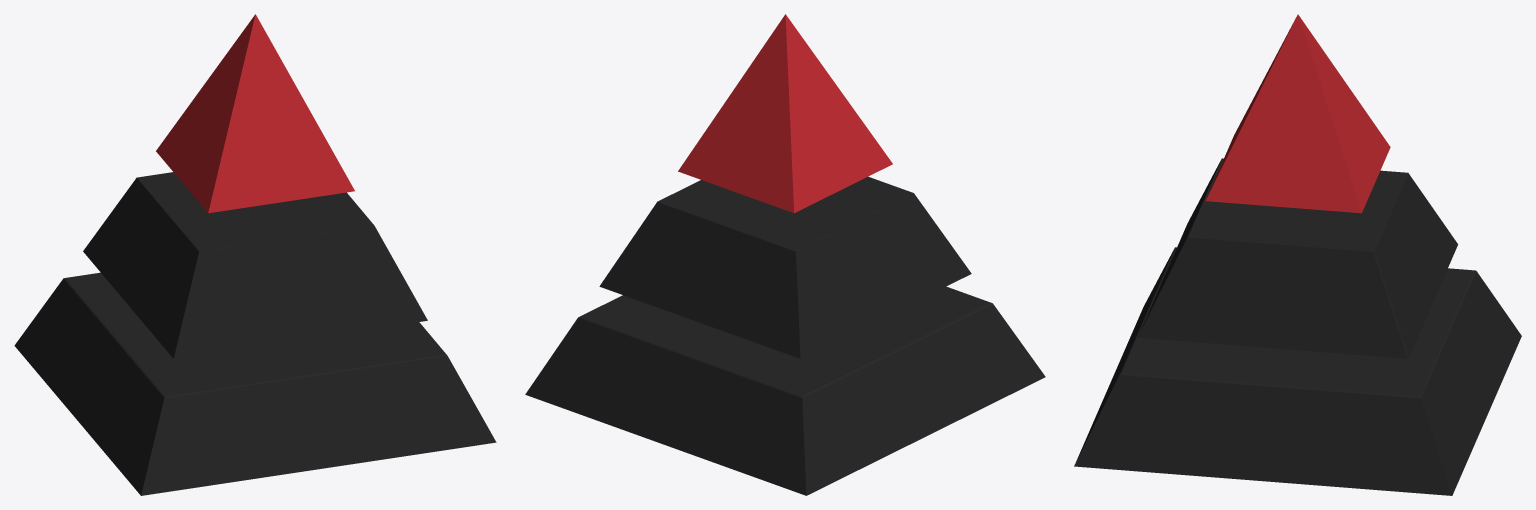
Rendered from pyramid_dark.glb.
3 views of the same model, side by side, from view 1: azimuth 30°, elevation 25°; view 2: azimuth 150°, elevation 25°; view 3: azimuth 270°, elevation 25° (orthographic). The views are drawn at different scales.
Parts seen in each view (by area): view 1: Cone002; view 2: Cone002; view 3: Cone002.
Part boxes in pixels (x1,y1,x2,y2): Cone002: (14,14,496,495); Cone002: (525,14,1045,495); Cone002: (1074,14,1521,495).
Size of the model in its own units: 1.61 by 1.54 by 1.61.
